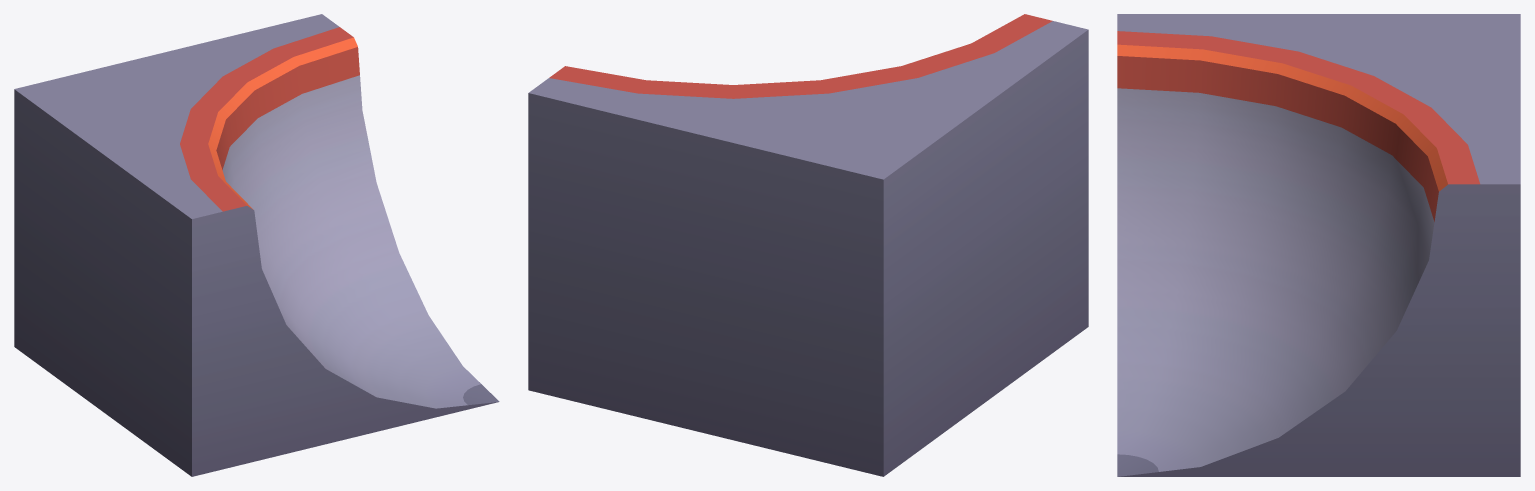
The model's file is bowl-corner-inner.glb.
3 views of the same model, side by side, from view 1: azimuth 30°, elevation 25°; view 2: azimuth 150°, elevation 25°; view 3: azimuth 270°, elevation 25° (orthographic). The views are drawn at different scales.
Visible parts, largest first — view 1: bowl-corner-inner; view 2: bowl-corner-inner; view 3: bowl-corner-inner.
Part boxes in pixels (box(x1,y1,x2,y2)): bowl-corner-inner: box(14, 14, 499, 476); bowl-corner-inner: box(528, 14, 1088, 476); bowl-corner-inner: box(1117, 14, 1520, 476).
Bounding box in the file's own units: 1 × 0.8 × 1.
Materials: 1 (1 with a texture image).
